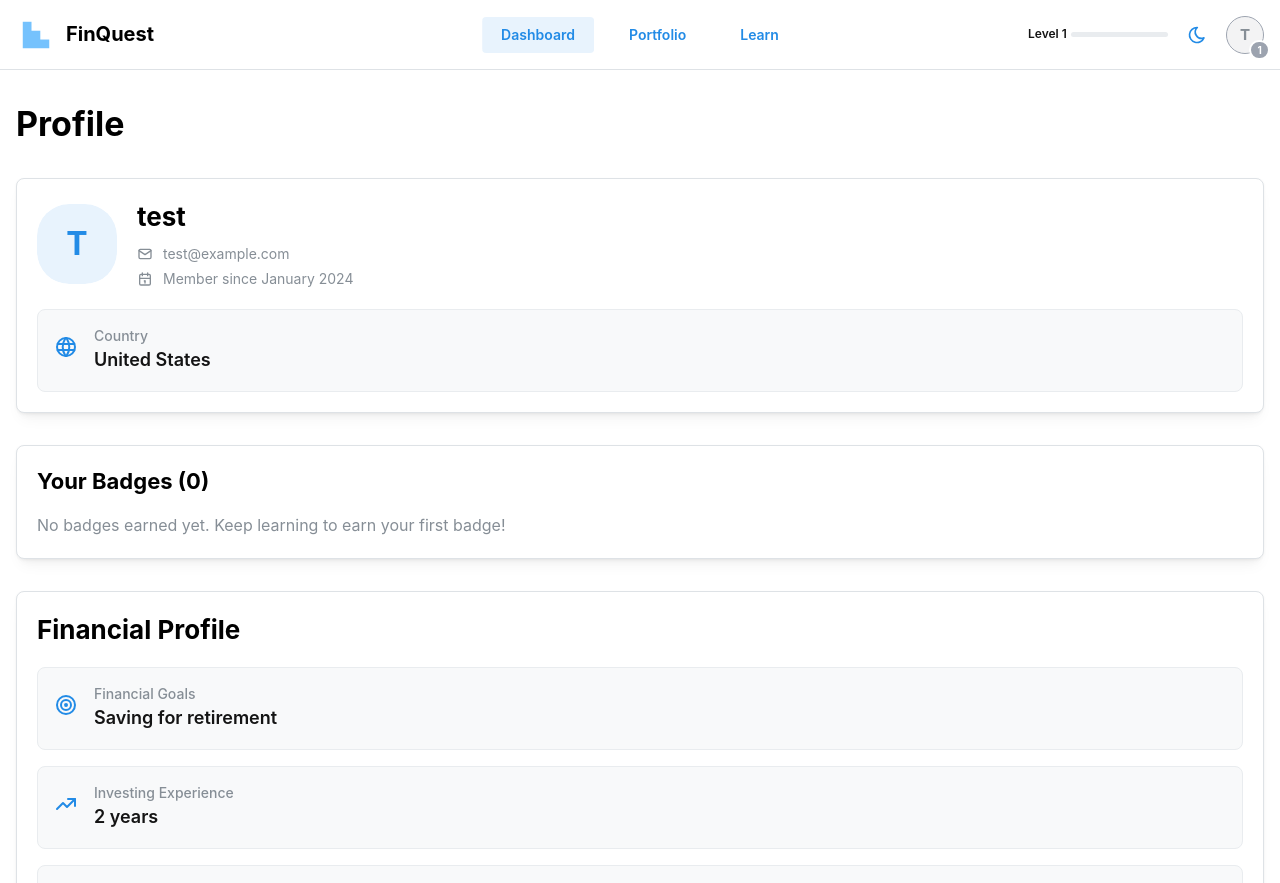
it: Profile Page › cancels country editing when cancel button is clicked
Click the element with test id "country-field-display".
click(640, 350)  # box [37,309,1243,392]
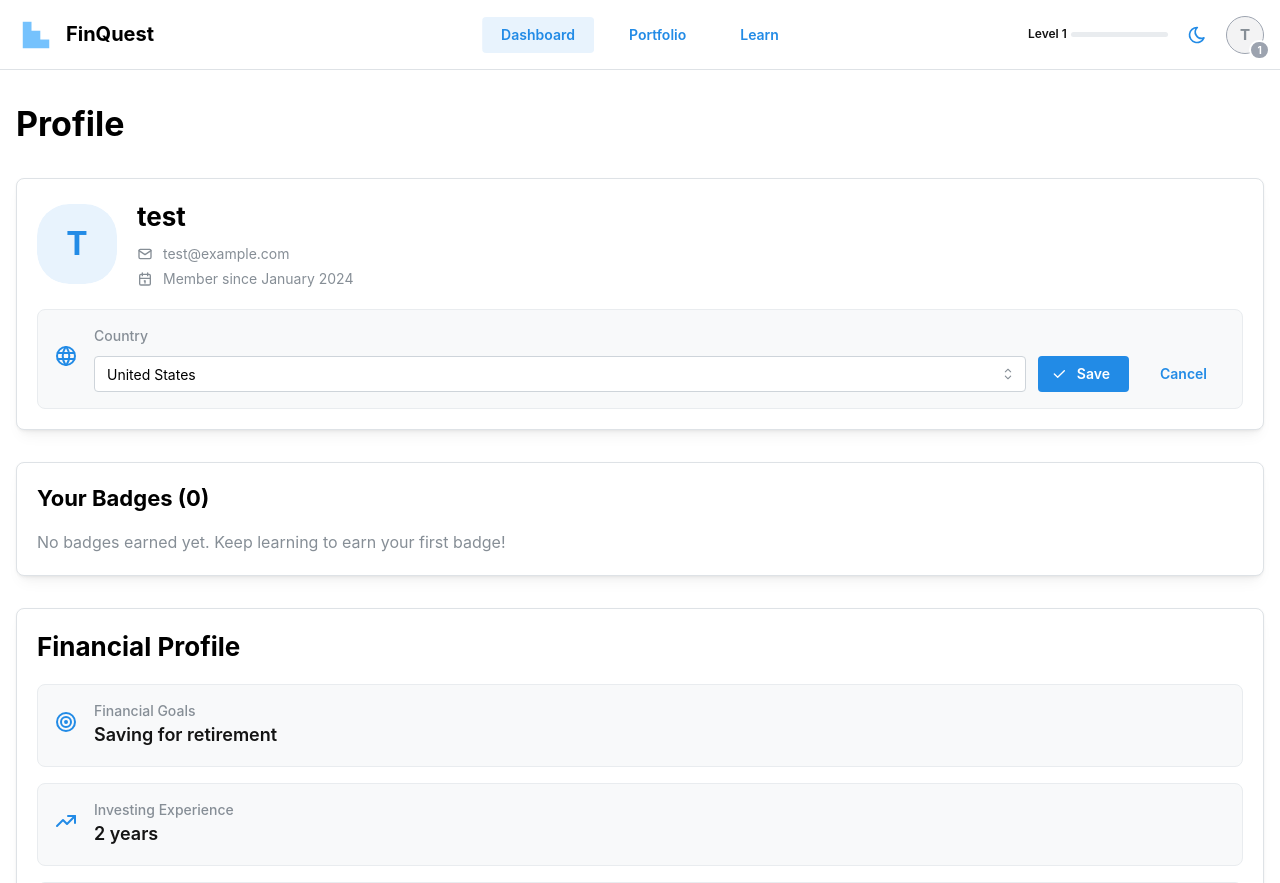
Now the button with test id "country-cancel-button" is shown
Click the button with test id "country-cancel-button".
click(1184, 374)  # box [1141,356,1226,392]
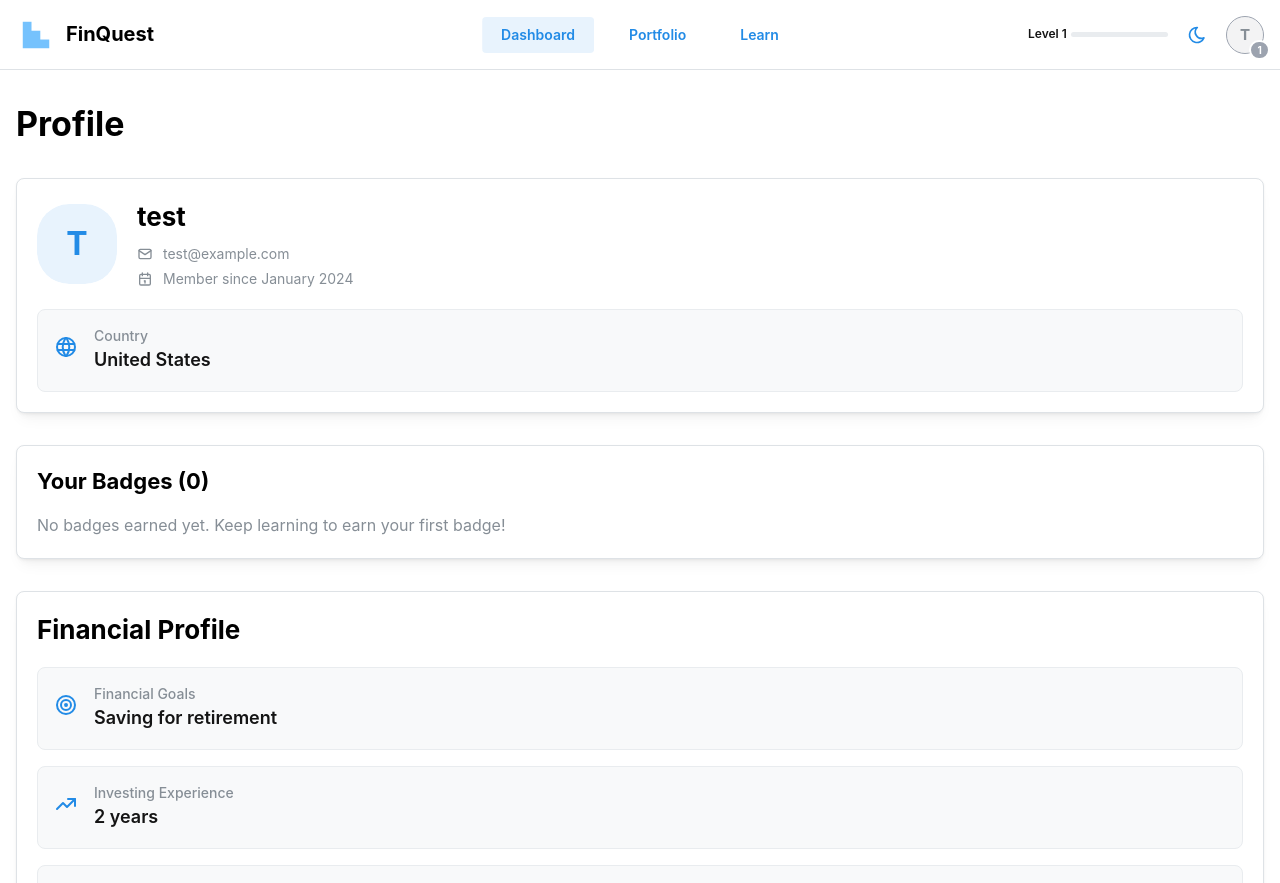
Now the element with test id "country-field-display" is shown, box [37,309,1243,392]
